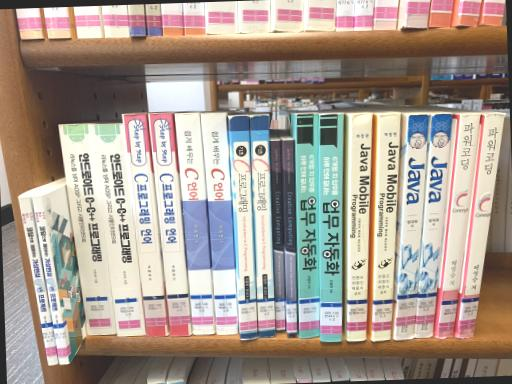book-spine: (58, 123, 115, 335), (91, 123, 145, 336), (457, 113, 505, 338), (122, 113, 167, 336), (436, 113, 480, 338), (148, 113, 190, 336), (174, 112, 214, 335), (414, 113, 452, 338), (201, 113, 237, 335), (394, 114, 428, 340), (19, 197, 58, 365), (228, 115, 257, 339), (31, 195, 68, 365), (373, 113, 399, 342), (249, 115, 275, 338), (347, 113, 371, 341), (319, 114, 343, 341), (297, 113, 320, 338), (270, 140, 285, 334), (283, 139, 297, 337)
